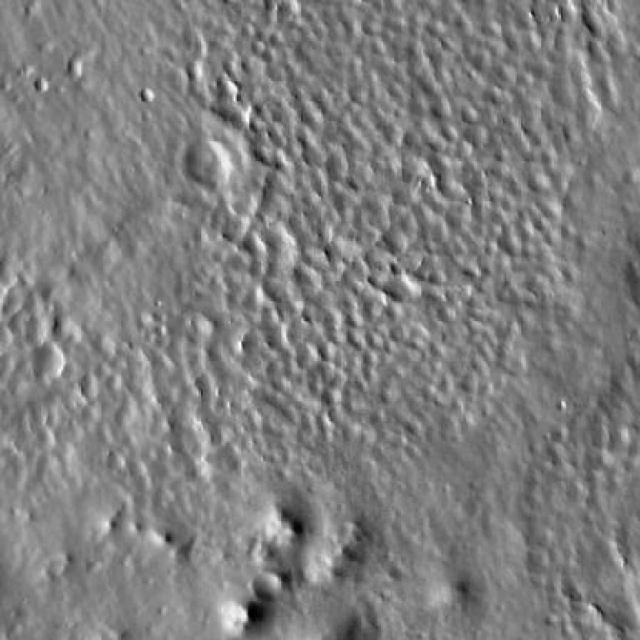crater: (165, 118, 252, 205), (190, 144, 232, 185), (36, 342, 67, 372), (68, 58, 88, 78)
